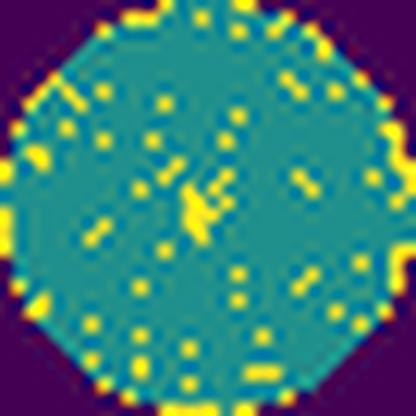Center: (178, 162, 236, 244)
